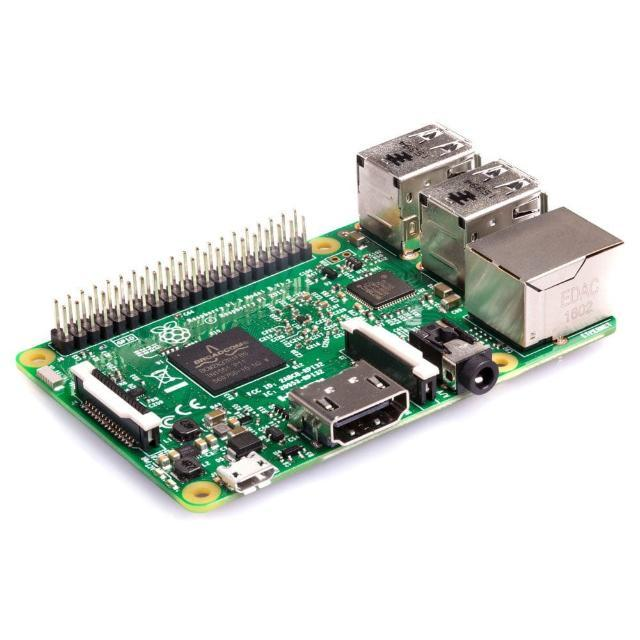Raspberry-Pi-3-B: (38, 125, 623, 507)
